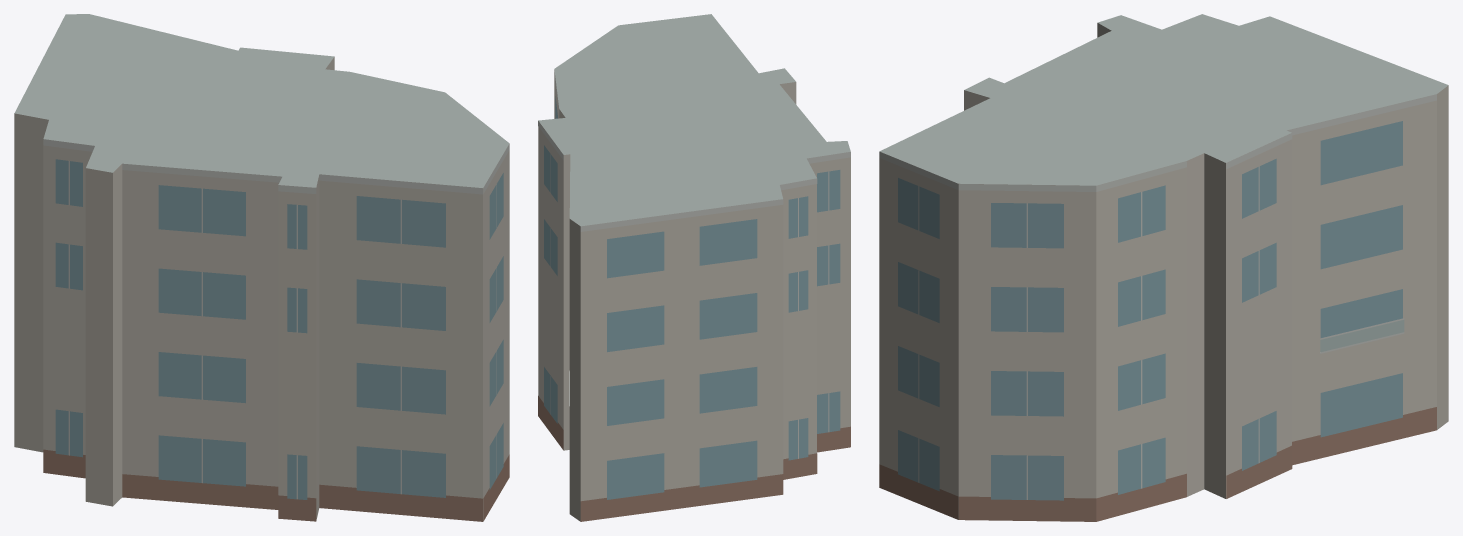
Rendered from survey-upis-32894031.glb.
3 views of the same model, side by side, from view 1: azimuth 30°, elevation 25°; view 2: azimuth 150°, elevation 25°; view 3: azimuth 270°, elevation 25° (orthographic). The views are drawn at different scales.
Visible parts, largest first — view 1: survey-upis-32894031.tmp; view 2: survey-upis-32894031.tmp; view 3: survey-upis-32894031.tmp.
Boxes of the visible parts, x1=… form: survey-upis-32894031.tmp: x1=14, y1=14, x2=509, y2=521; survey-upis-32894031.tmp: x1=538, y1=14, x2=850, y2=521; survey-upis-32894031.tmp: x1=879, y1=14, x2=1448, y2=521.
Size of the model in its own units: 14.03 by 12.8 by 19.66.
